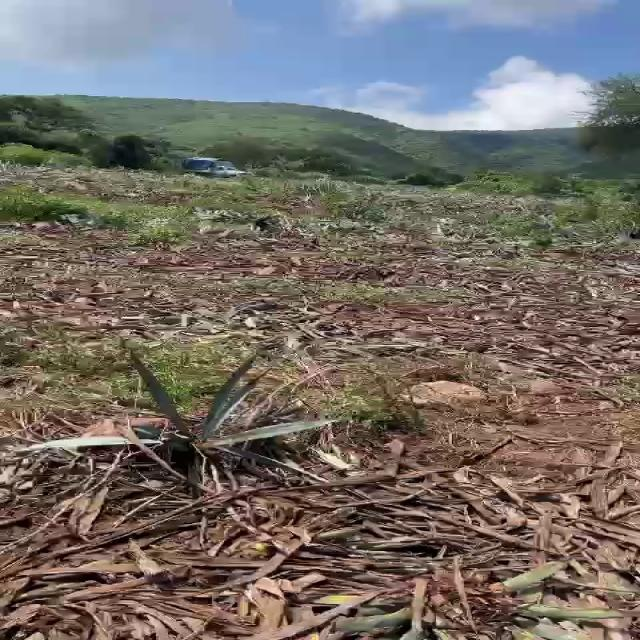agave: (27, 352, 334, 487)
